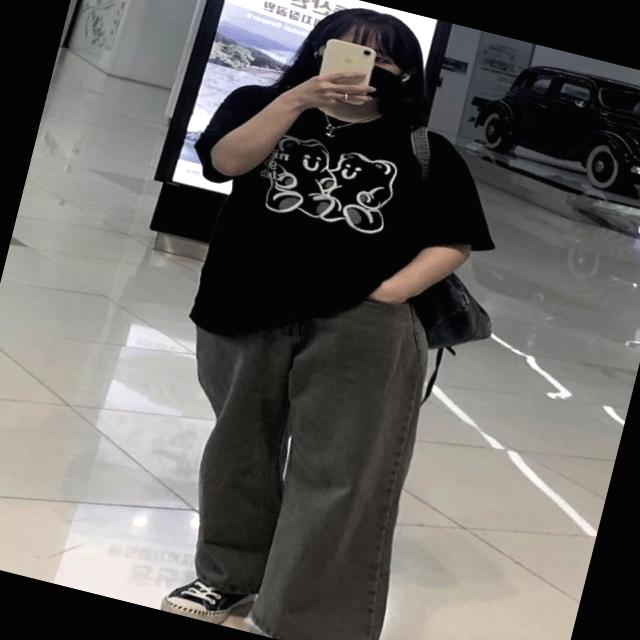denimpants: (127, 251, 472, 640)
shortsleeve: (153, 65, 520, 395)
